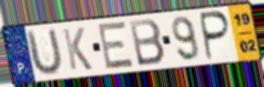9: (170, 15, 201, 61)
B: (128, 18, 167, 69)
E: (97, 20, 136, 71)
K: (61, 26, 95, 72)
P: (199, 9, 233, 62)
U: (26, 26, 65, 78)
